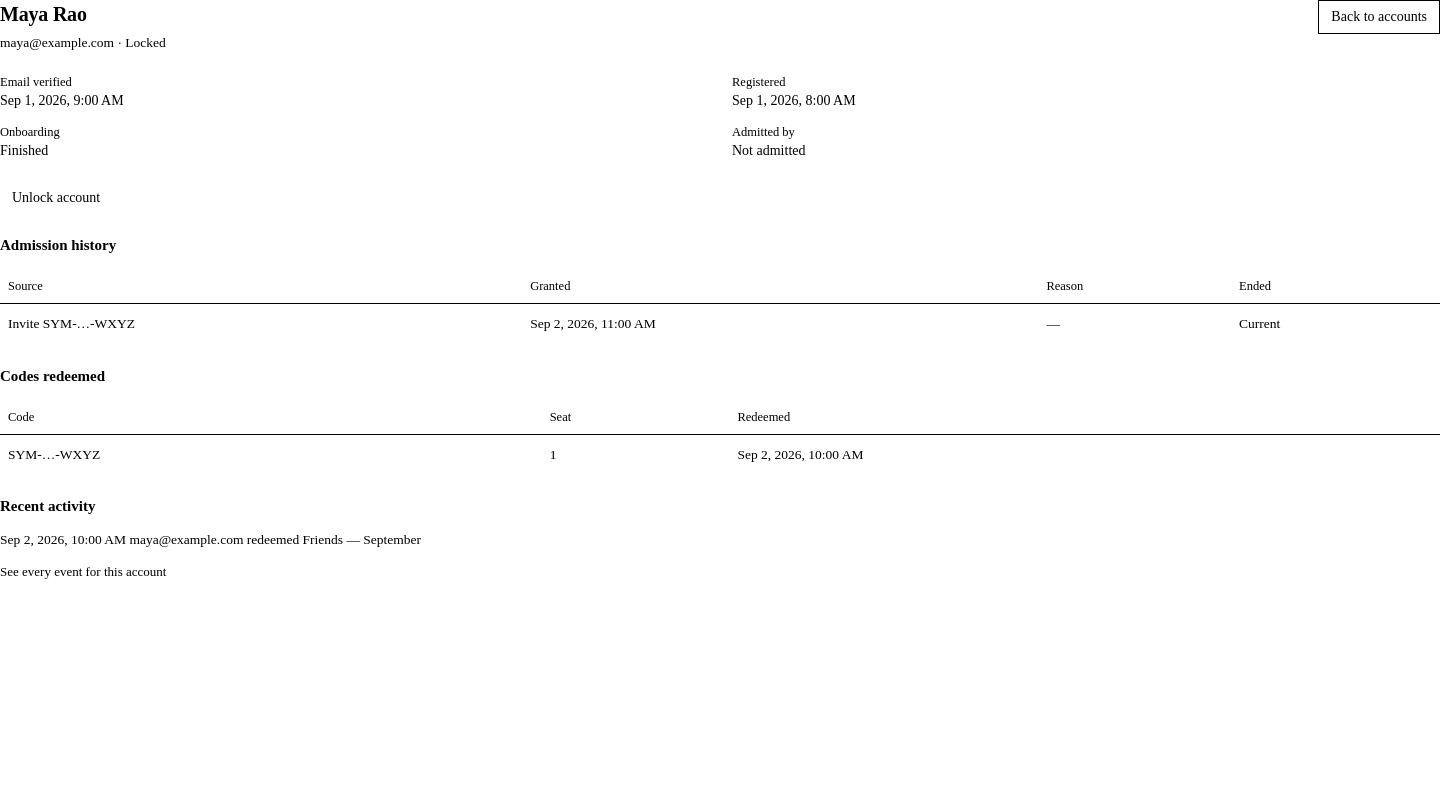
one account (admin_accounts.md) › unlocks a locked account with a reason and the generation it read
Click the button "Unlock account" at (56, 198), box [0,181,112,215]
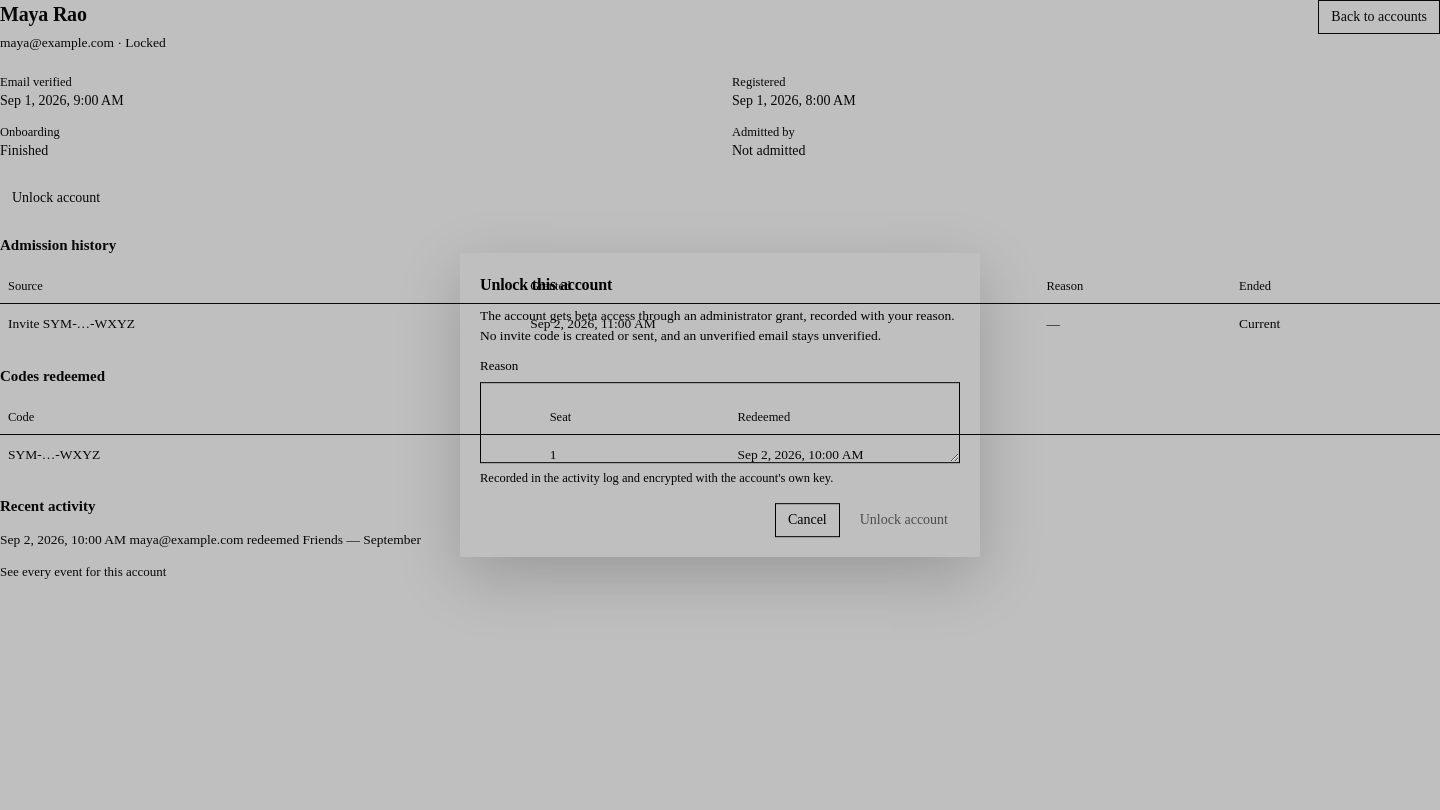
Expected: the dialog shows "No invite code is created or sent", [480,308,955,344]
Expected: the button "Unlock account" is disabled, [848,503,960,537]
Type "Friend of the project" into the text box labelled "Reason" at (720, 422), box [480,382,960,463]
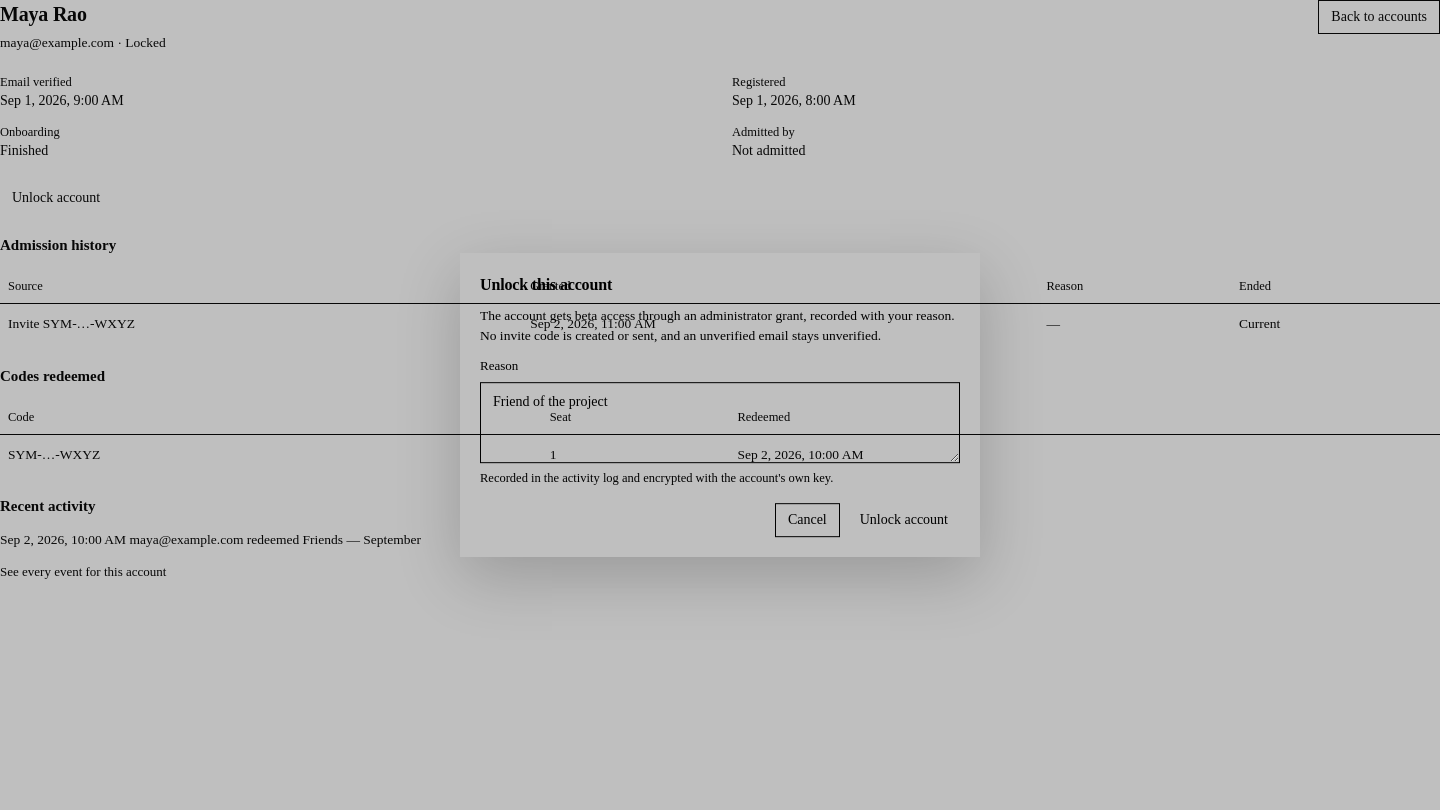
Click the button "Unlock account" at (904, 520), box [848,503,960,537]
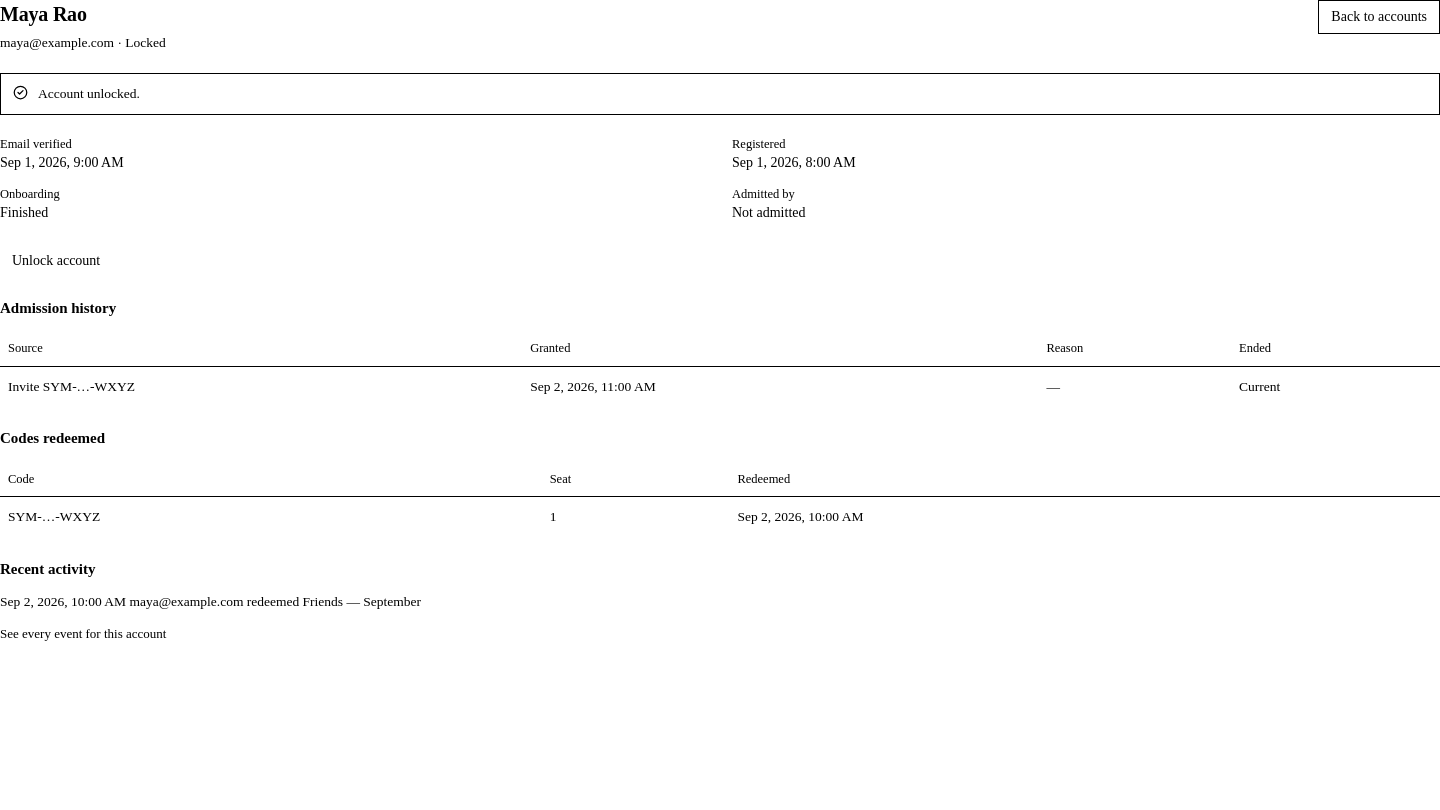
Expected: the text "Account unlocked." is shown, [38,86,140,101]
